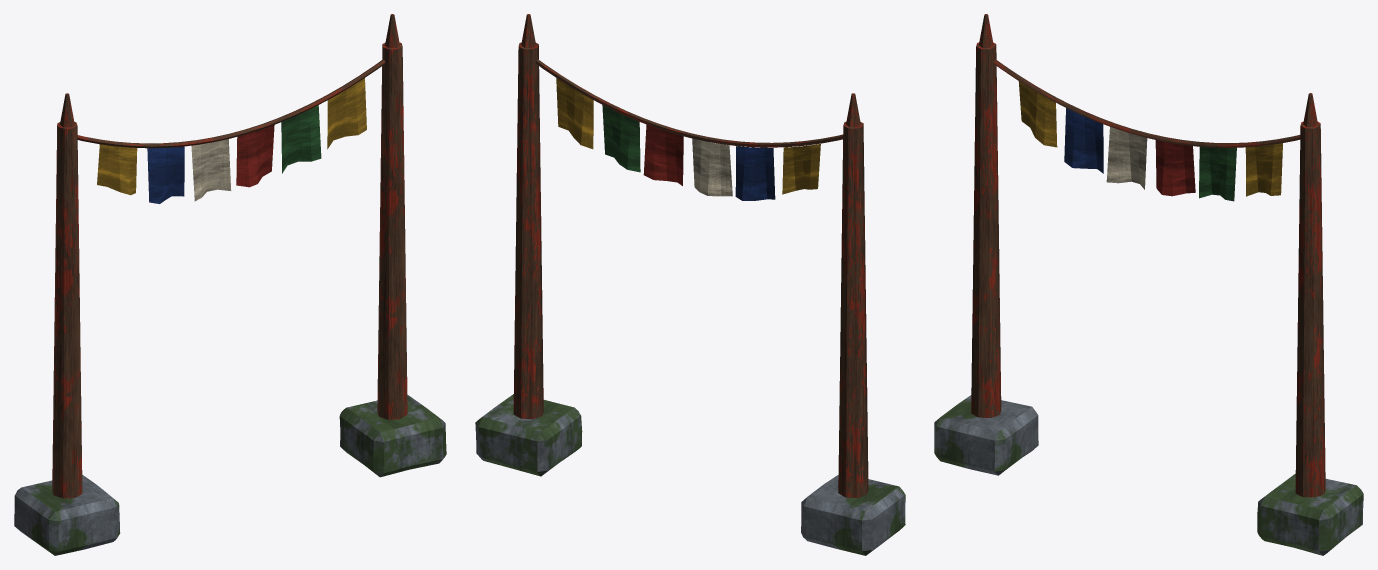
File: Bell_Prayer_Flags_Short.glb
3 views of the same model, side by side, from view 1: azimuth 30°, elevation 25°; view 2: azimuth 150°, elevation 25°; view 3: azimuth 330°, elevation 25° (orthographic).
Parts seen in each view (by area): view 1: Bell_Prayer_Flags_Short__Timber, Bell_Prayer_Flags_Short__Stone, Bell_Prayer_Flags_Short__Cloth; view 2: Bell_Prayer_Flags_Short__Timber, Bell_Prayer_Flags_Short__Stone, Bell_Prayer_Flags_Short__Cloth; view 3: Bell_Prayer_Flags_Short__Timber, Bell_Prayer_Flags_Short__Stone, Bell_Prayer_Flags_Short__Cloth.
Part boxes in pixels (x1=…): Bell_Prayer_Flags_Short__Timber: x1=52, y1=14, x2=407, y2=498; Bell_Prayer_Flags_Short__Stone: x1=14, y1=394, x2=446, y2=555; Bell_Prayer_Flags_Short__Cloth: x1=97, y1=78, x2=366, y2=203; Bell_Prayer_Flags_Short__Timber: x1=513, y1=14, x2=868, y2=497; Bell_Prayer_Flags_Short__Stone: x1=475, y1=394, x2=905, y2=555; Bell_Prayer_Flags_Short__Cloth: x1=556, y1=78, x2=820, y2=200; Bell_Prayer_Flags_Short__Timber: x1=971, y1=14, x2=1325, y2=497; Bell_Prayer_Flags_Short__Stone: x1=934, y1=395, x2=1363, y2=555; Bell_Prayer_Flags_Short__Cloth: x1=1018, y1=81, x2=1282, y2=201.
Size of the model in its own units: 12.25 by 13.03 by 2.25.
Materials: 3 (3 with a texture image).
